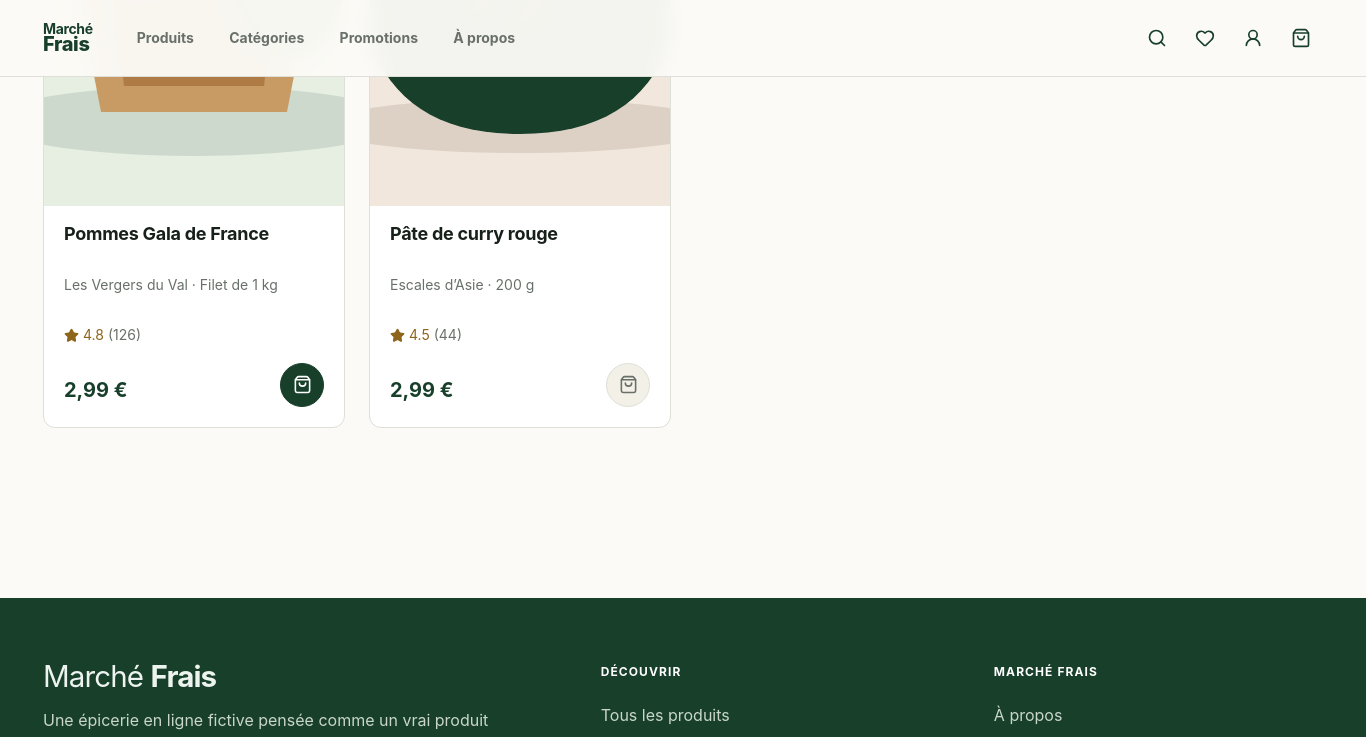
it: FavoritesPage › moves an available favorite to the cart and removes another favorite
(page scrolled)
Check: the heading "Pommes Gala de France" is shown, box [64,223,269,244]
Check: the button named "Déplacer Pâte de curry rouge vers le panier" is disabled, box [606,363,650,407]
Click the button named "Déplacer Pommes Gala de France vers le panier": coordinates (302, 385) [280,363,324,407]
(page scrolled)
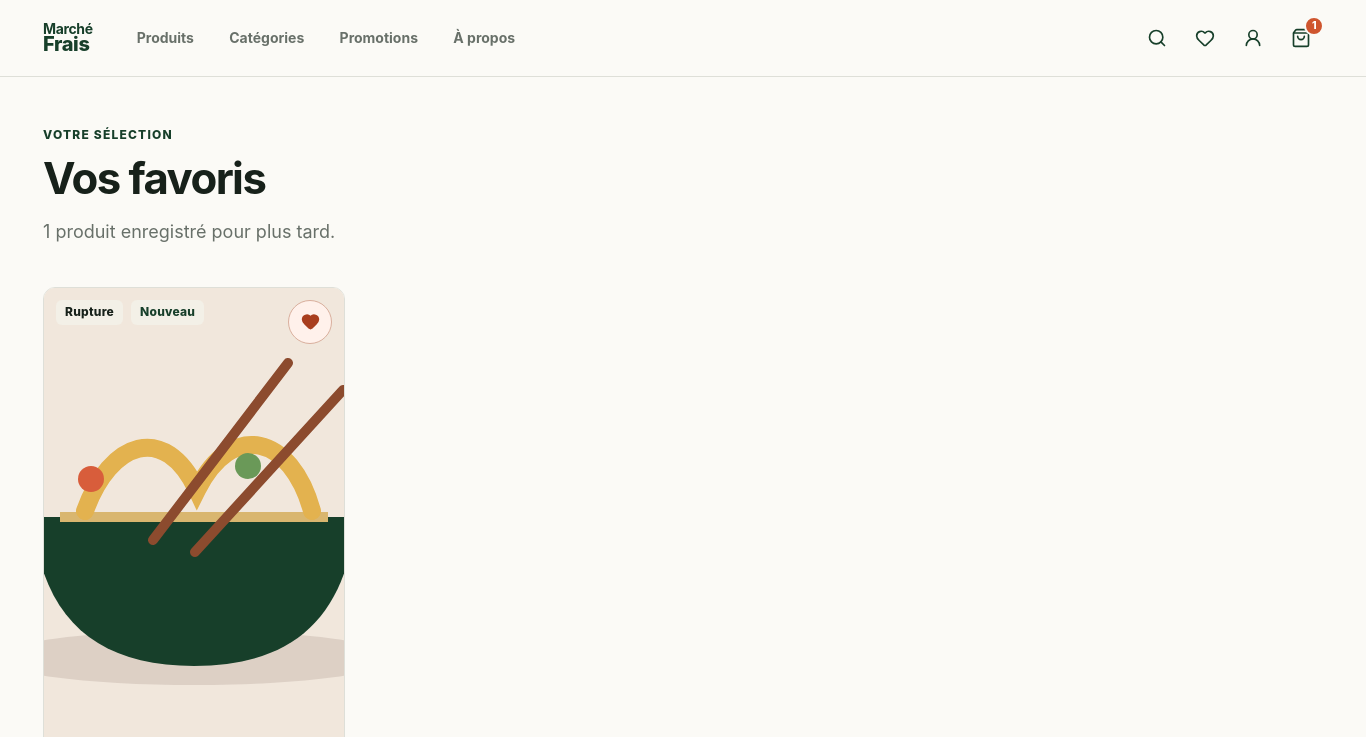
Check: the link "Pommes Gala de France" is gone
Check: the link named "Panier, 1 article" is shown, box [1291,16,1324,48]
Click the button named "Retirer Pâte de curry rouge des favoris": coordinates (310, 322) [288,300,332,344]
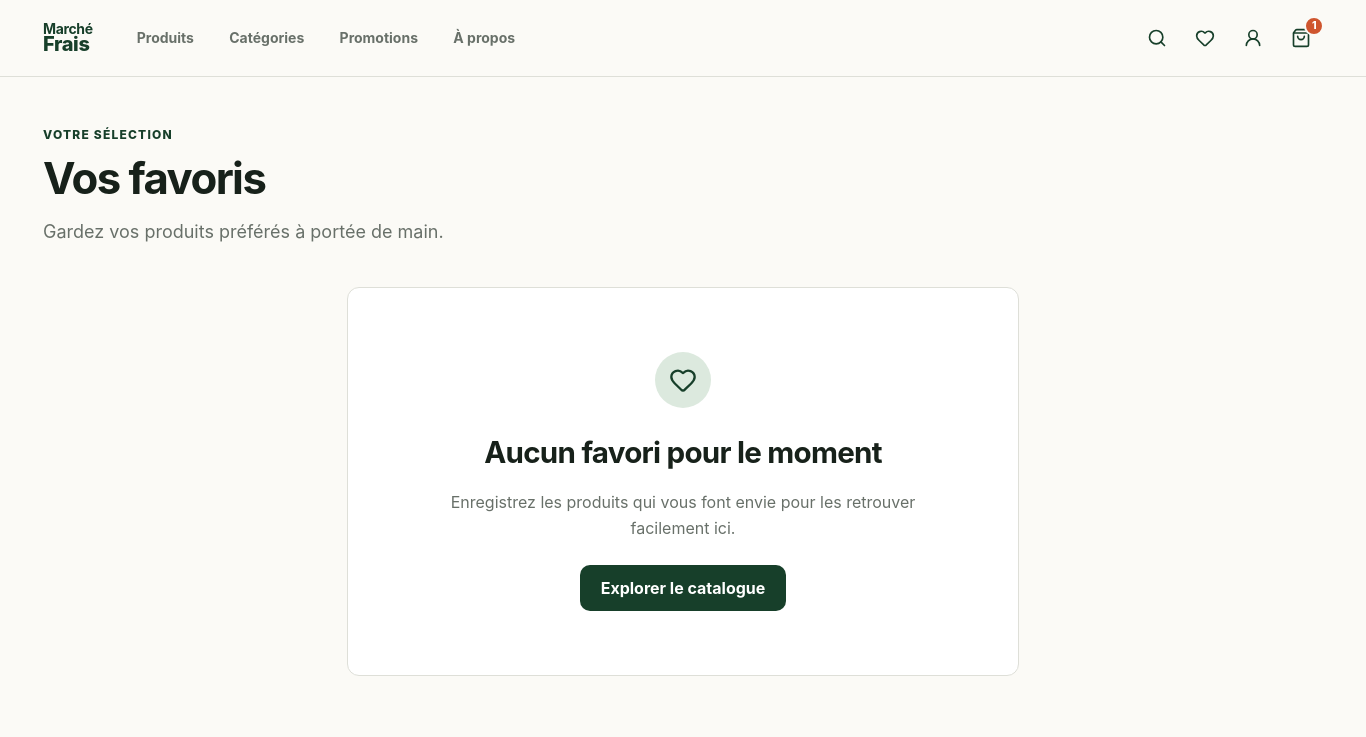
Check: the heading "Aucun favori pour le moment" is shown, box [484,428,882,477]
